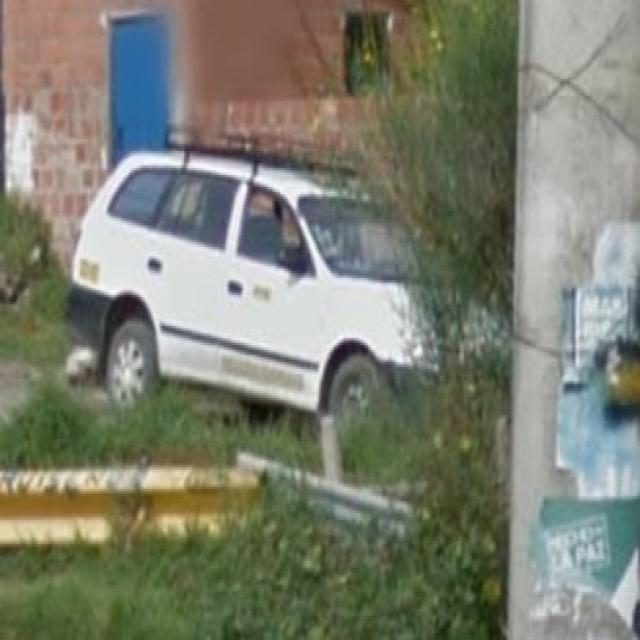cars: (72, 127, 450, 411)
